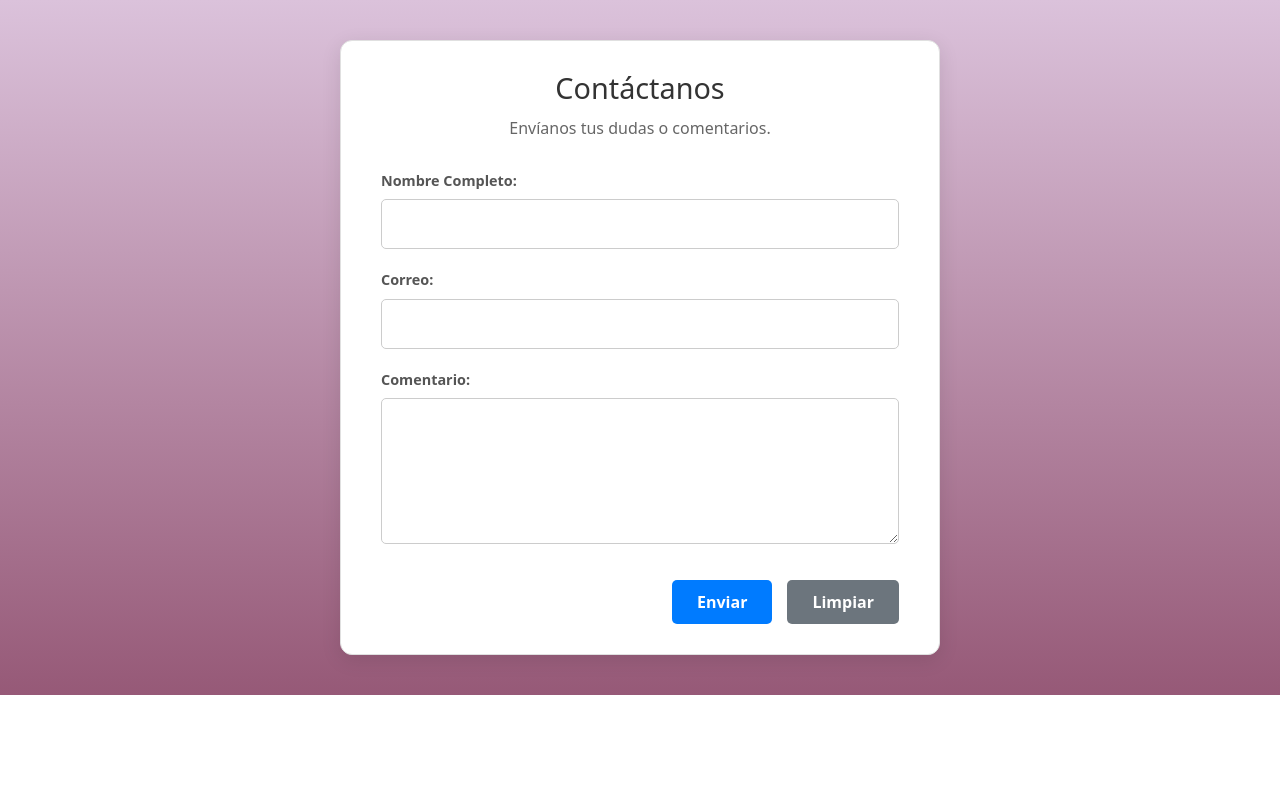
Test: Contacto Component › el botón limpiar vacía los campos
In the field labelled "Nombre Completo:": (640, 224) 381,199 -> 899,249, type "Cristian"
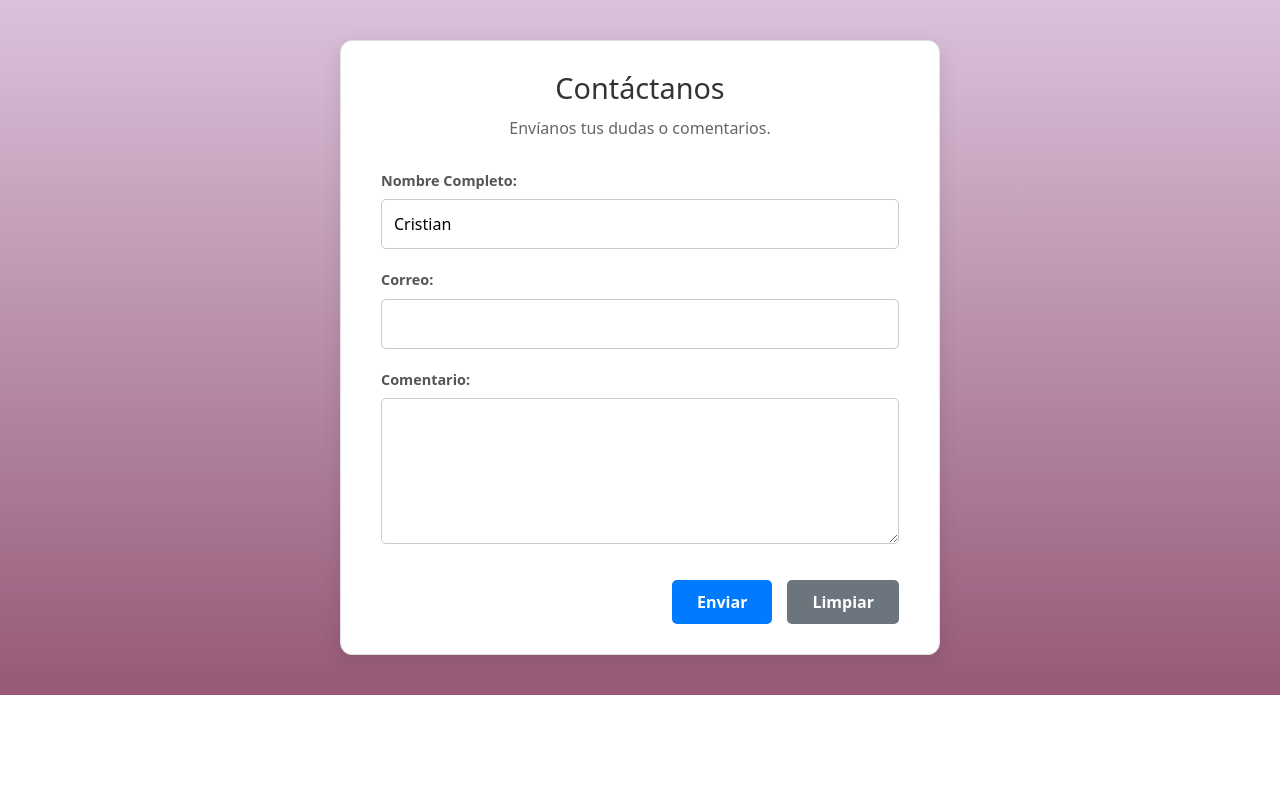
In the field labelled "Correo:": (640, 324) 381,299 -> 899,349, type "test@mail.com"
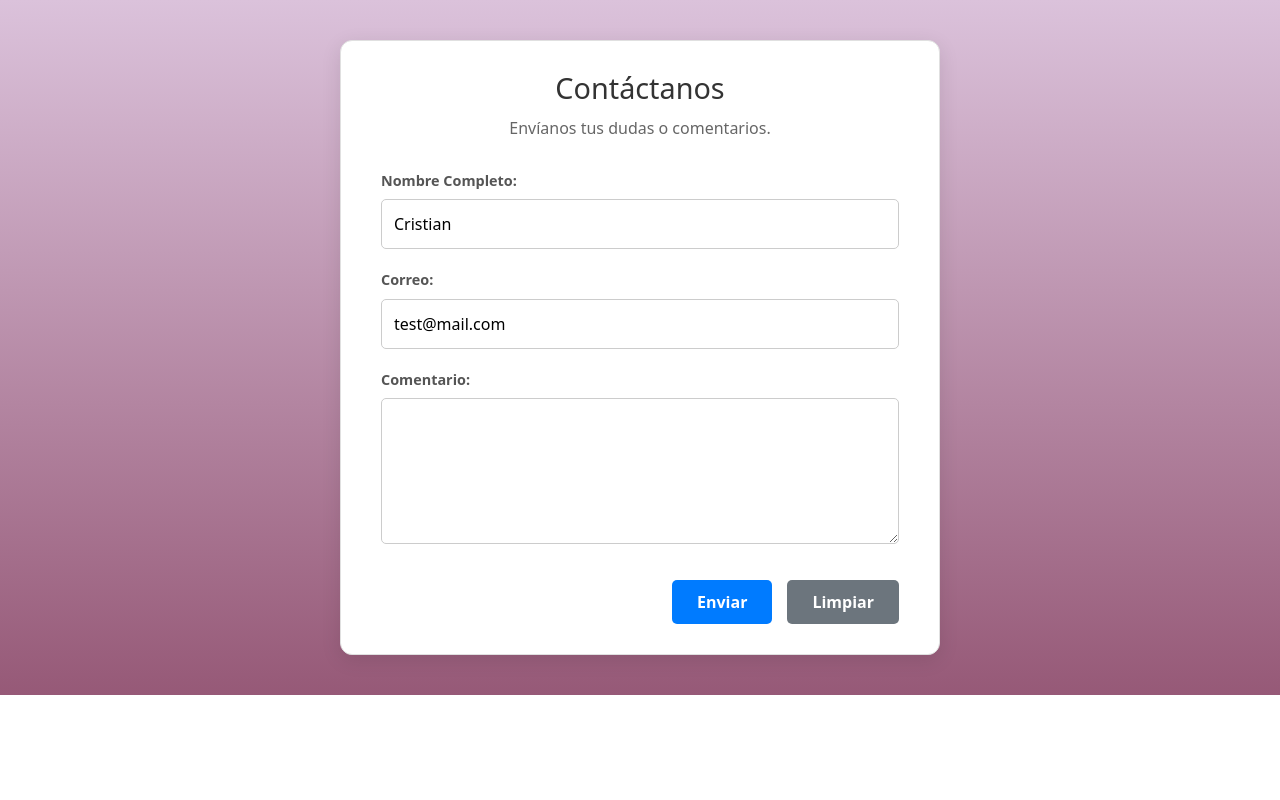
In the text box labelled "Comentario:": (640, 471) 381,398 -> 899,544, type "Hola mundo"
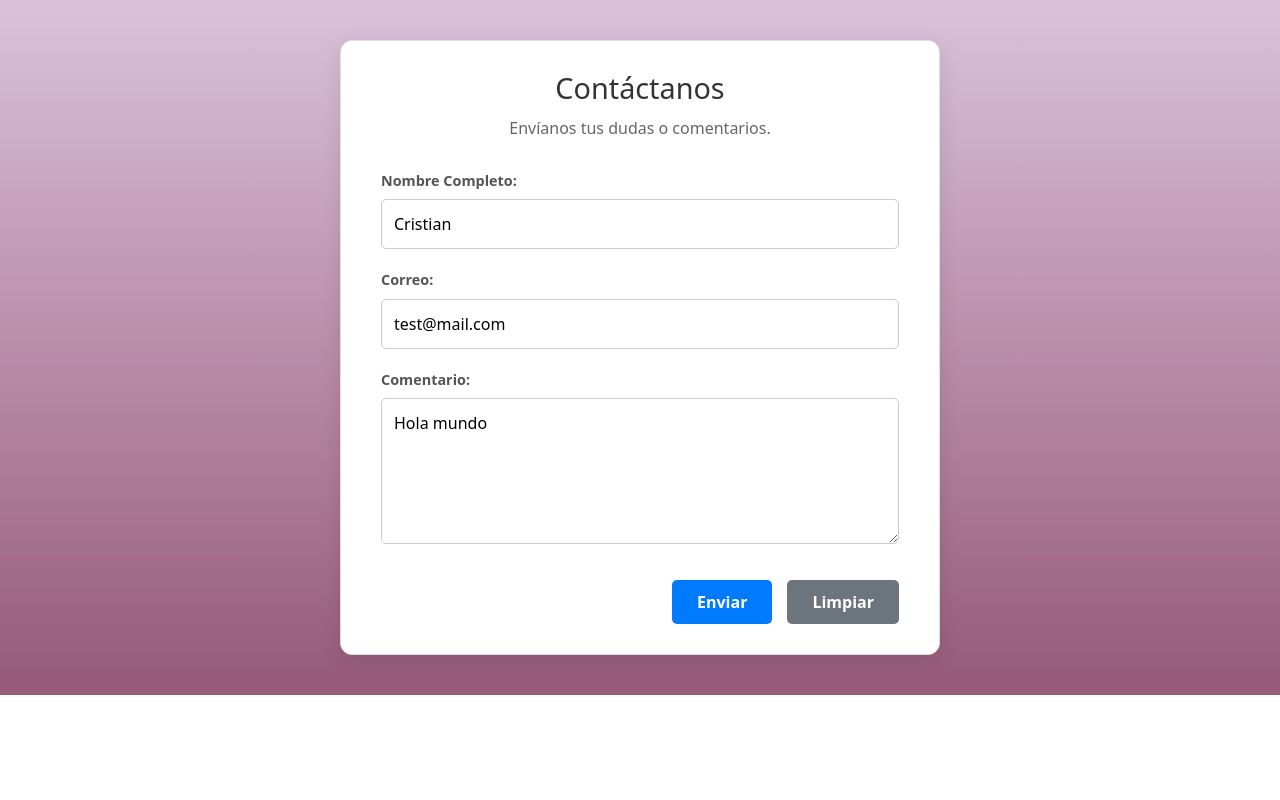
Click the button "Limpiar": click(843, 602) 787,580 -> 899,624
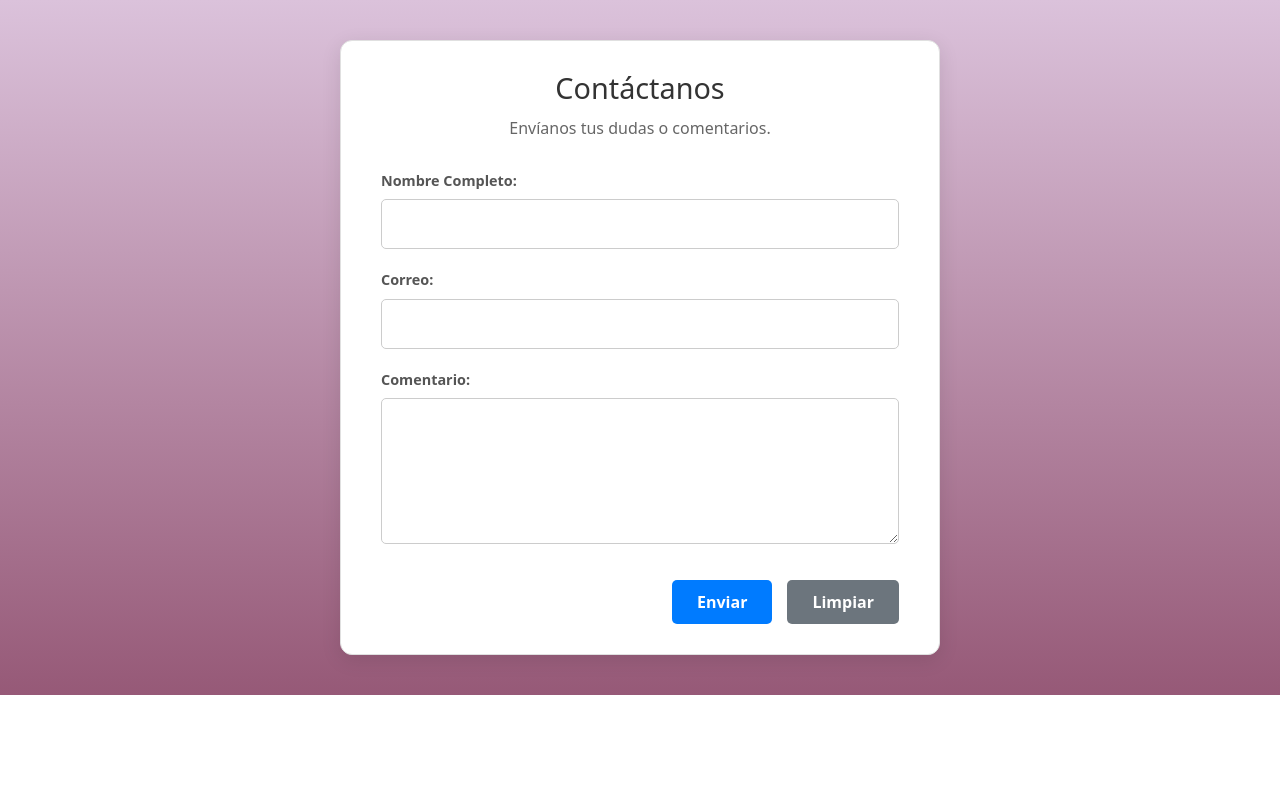
Check: the field labelled "Nombre Completo:" is empty, box 381,199 -> 899,249
Check: the field labelled "Correo:" is empty, box 381,299 -> 899,349
Check: the text box labelled "Comentario:" is empty, box 381,398 -> 899,544
